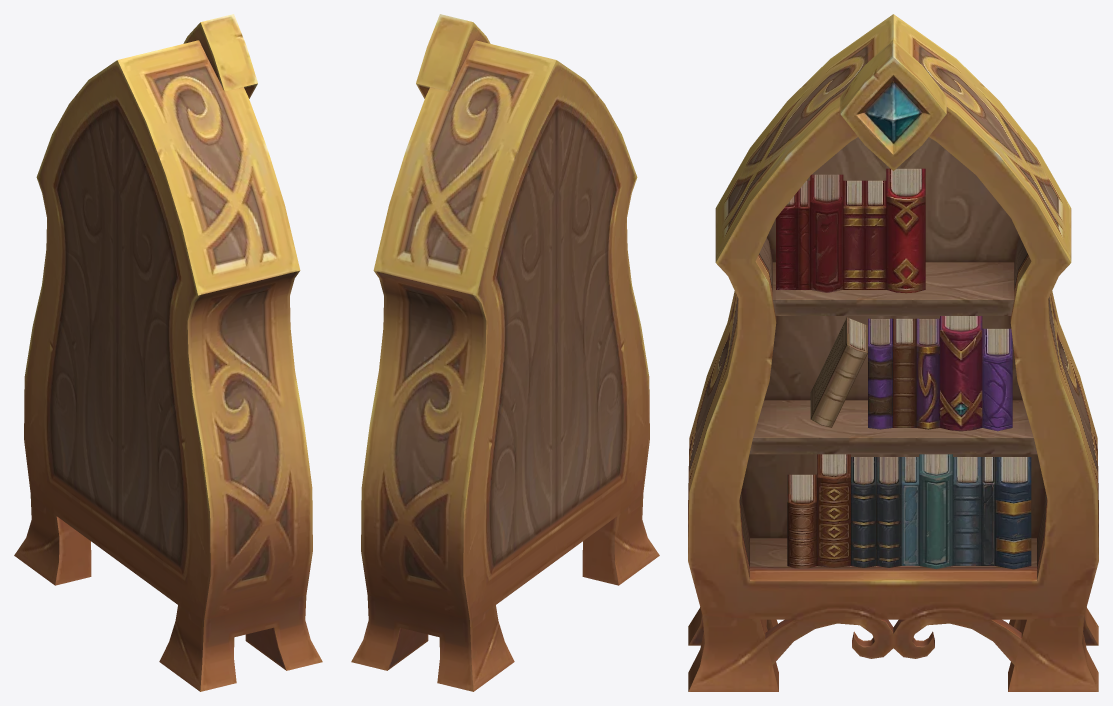
3 views of the same model, side by side, from view 1: azimuth 30°, elevation 25°; view 2: azimuth 150°, elevation 25°; view 3: azimuth 270°, elevation 25° (orthographic). The views are drawn at different scales.
Size of the model in its own units: 1 by 4.02 by 2.35.
2 materials, 2 textured.
